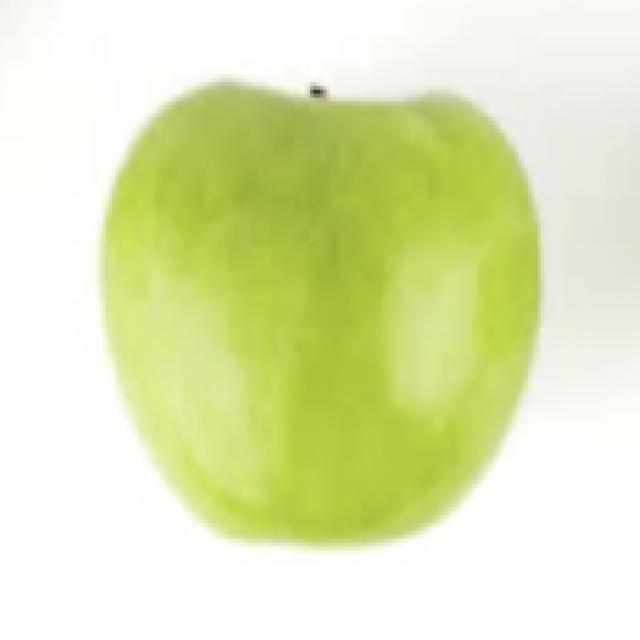Fresh Apple: (130, 62, 552, 533)
